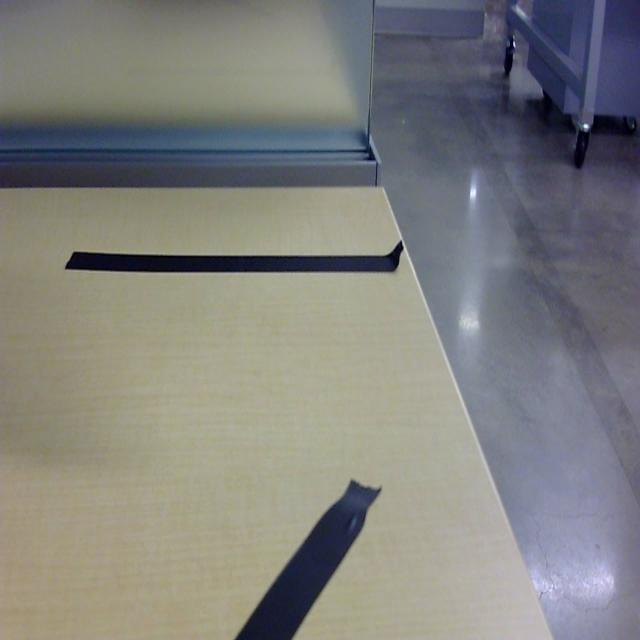tape: (234, 480, 382, 640), (66, 244, 404, 275)
